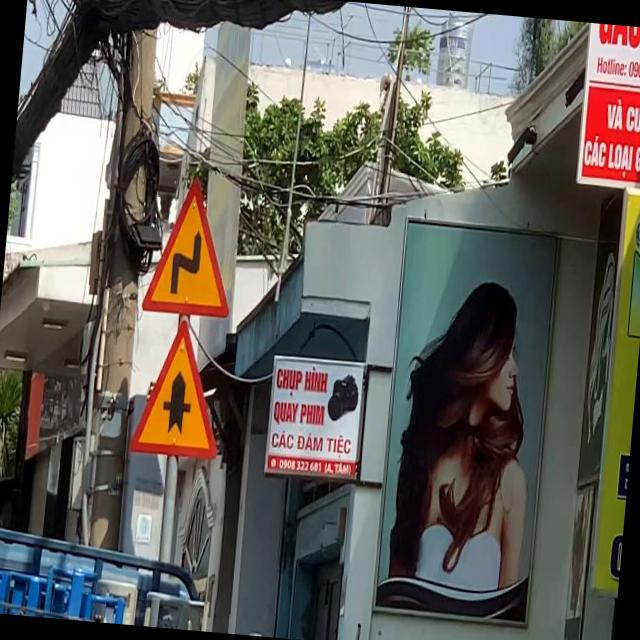W-202b: (140, 172, 240, 322)
W-207a: (130, 312, 227, 461)
